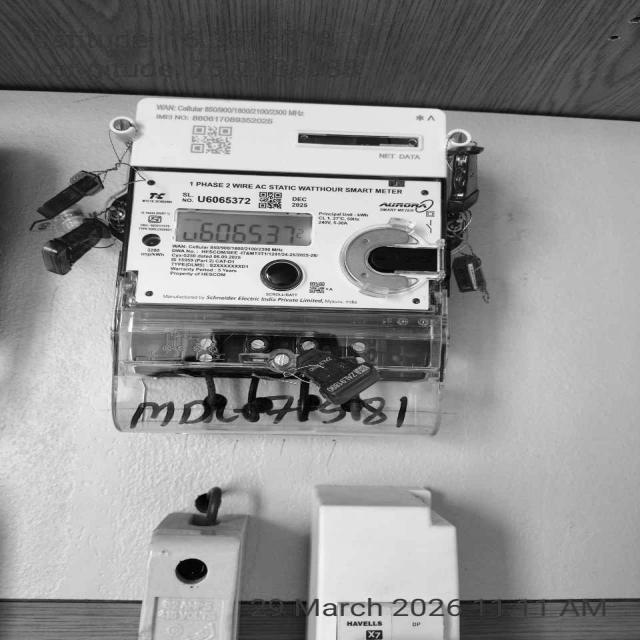meter: (131, 95, 450, 310)
